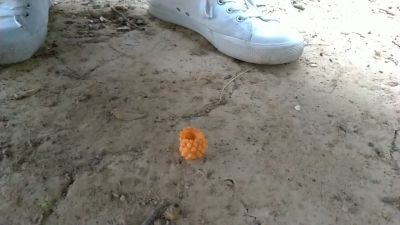eggs: (178, 122, 208, 162)
